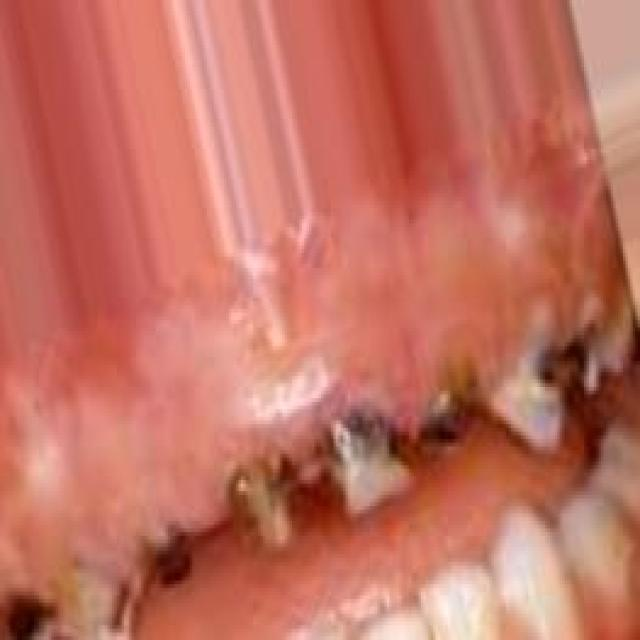caries: (225, 442, 317, 573), (322, 397, 417, 522), (497, 293, 564, 451), (130, 510, 202, 610), (414, 369, 483, 467), (566, 300, 630, 404)
